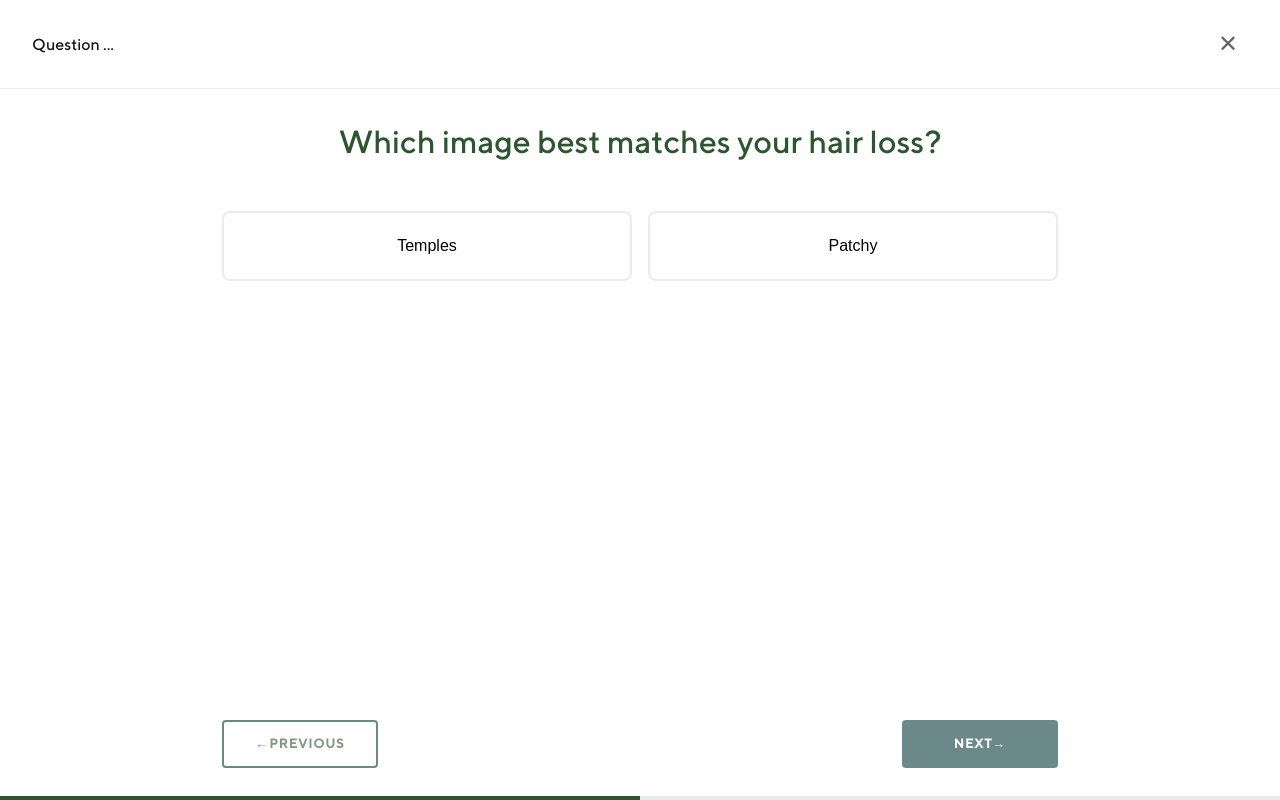
Test case: Quiz Flow Integration › Quiz Completion › should show rejection result for rejection answer
The width and height of the screenshot is (1280, 800).
Select rejection answer
What coordinates should you click on to do the following:
click the button "Patchy"
I would click on:
 (853, 246)
Its box is [648, 211, 1058, 281].
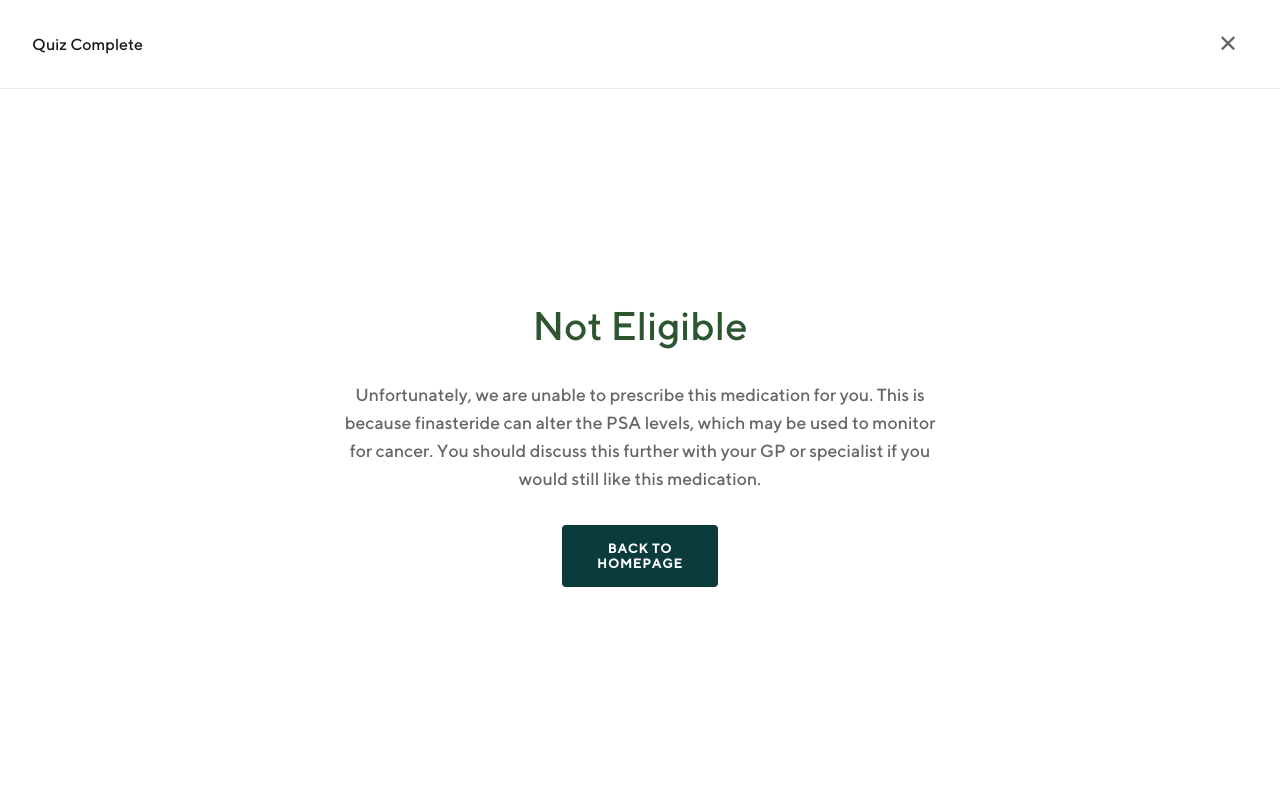
Now the heading "Not Eligible" is shown, box [532, 302, 748, 349]
Now the text "Unfortunately, we are unable to prescribe" is shown, box [345, 384, 935, 489]
